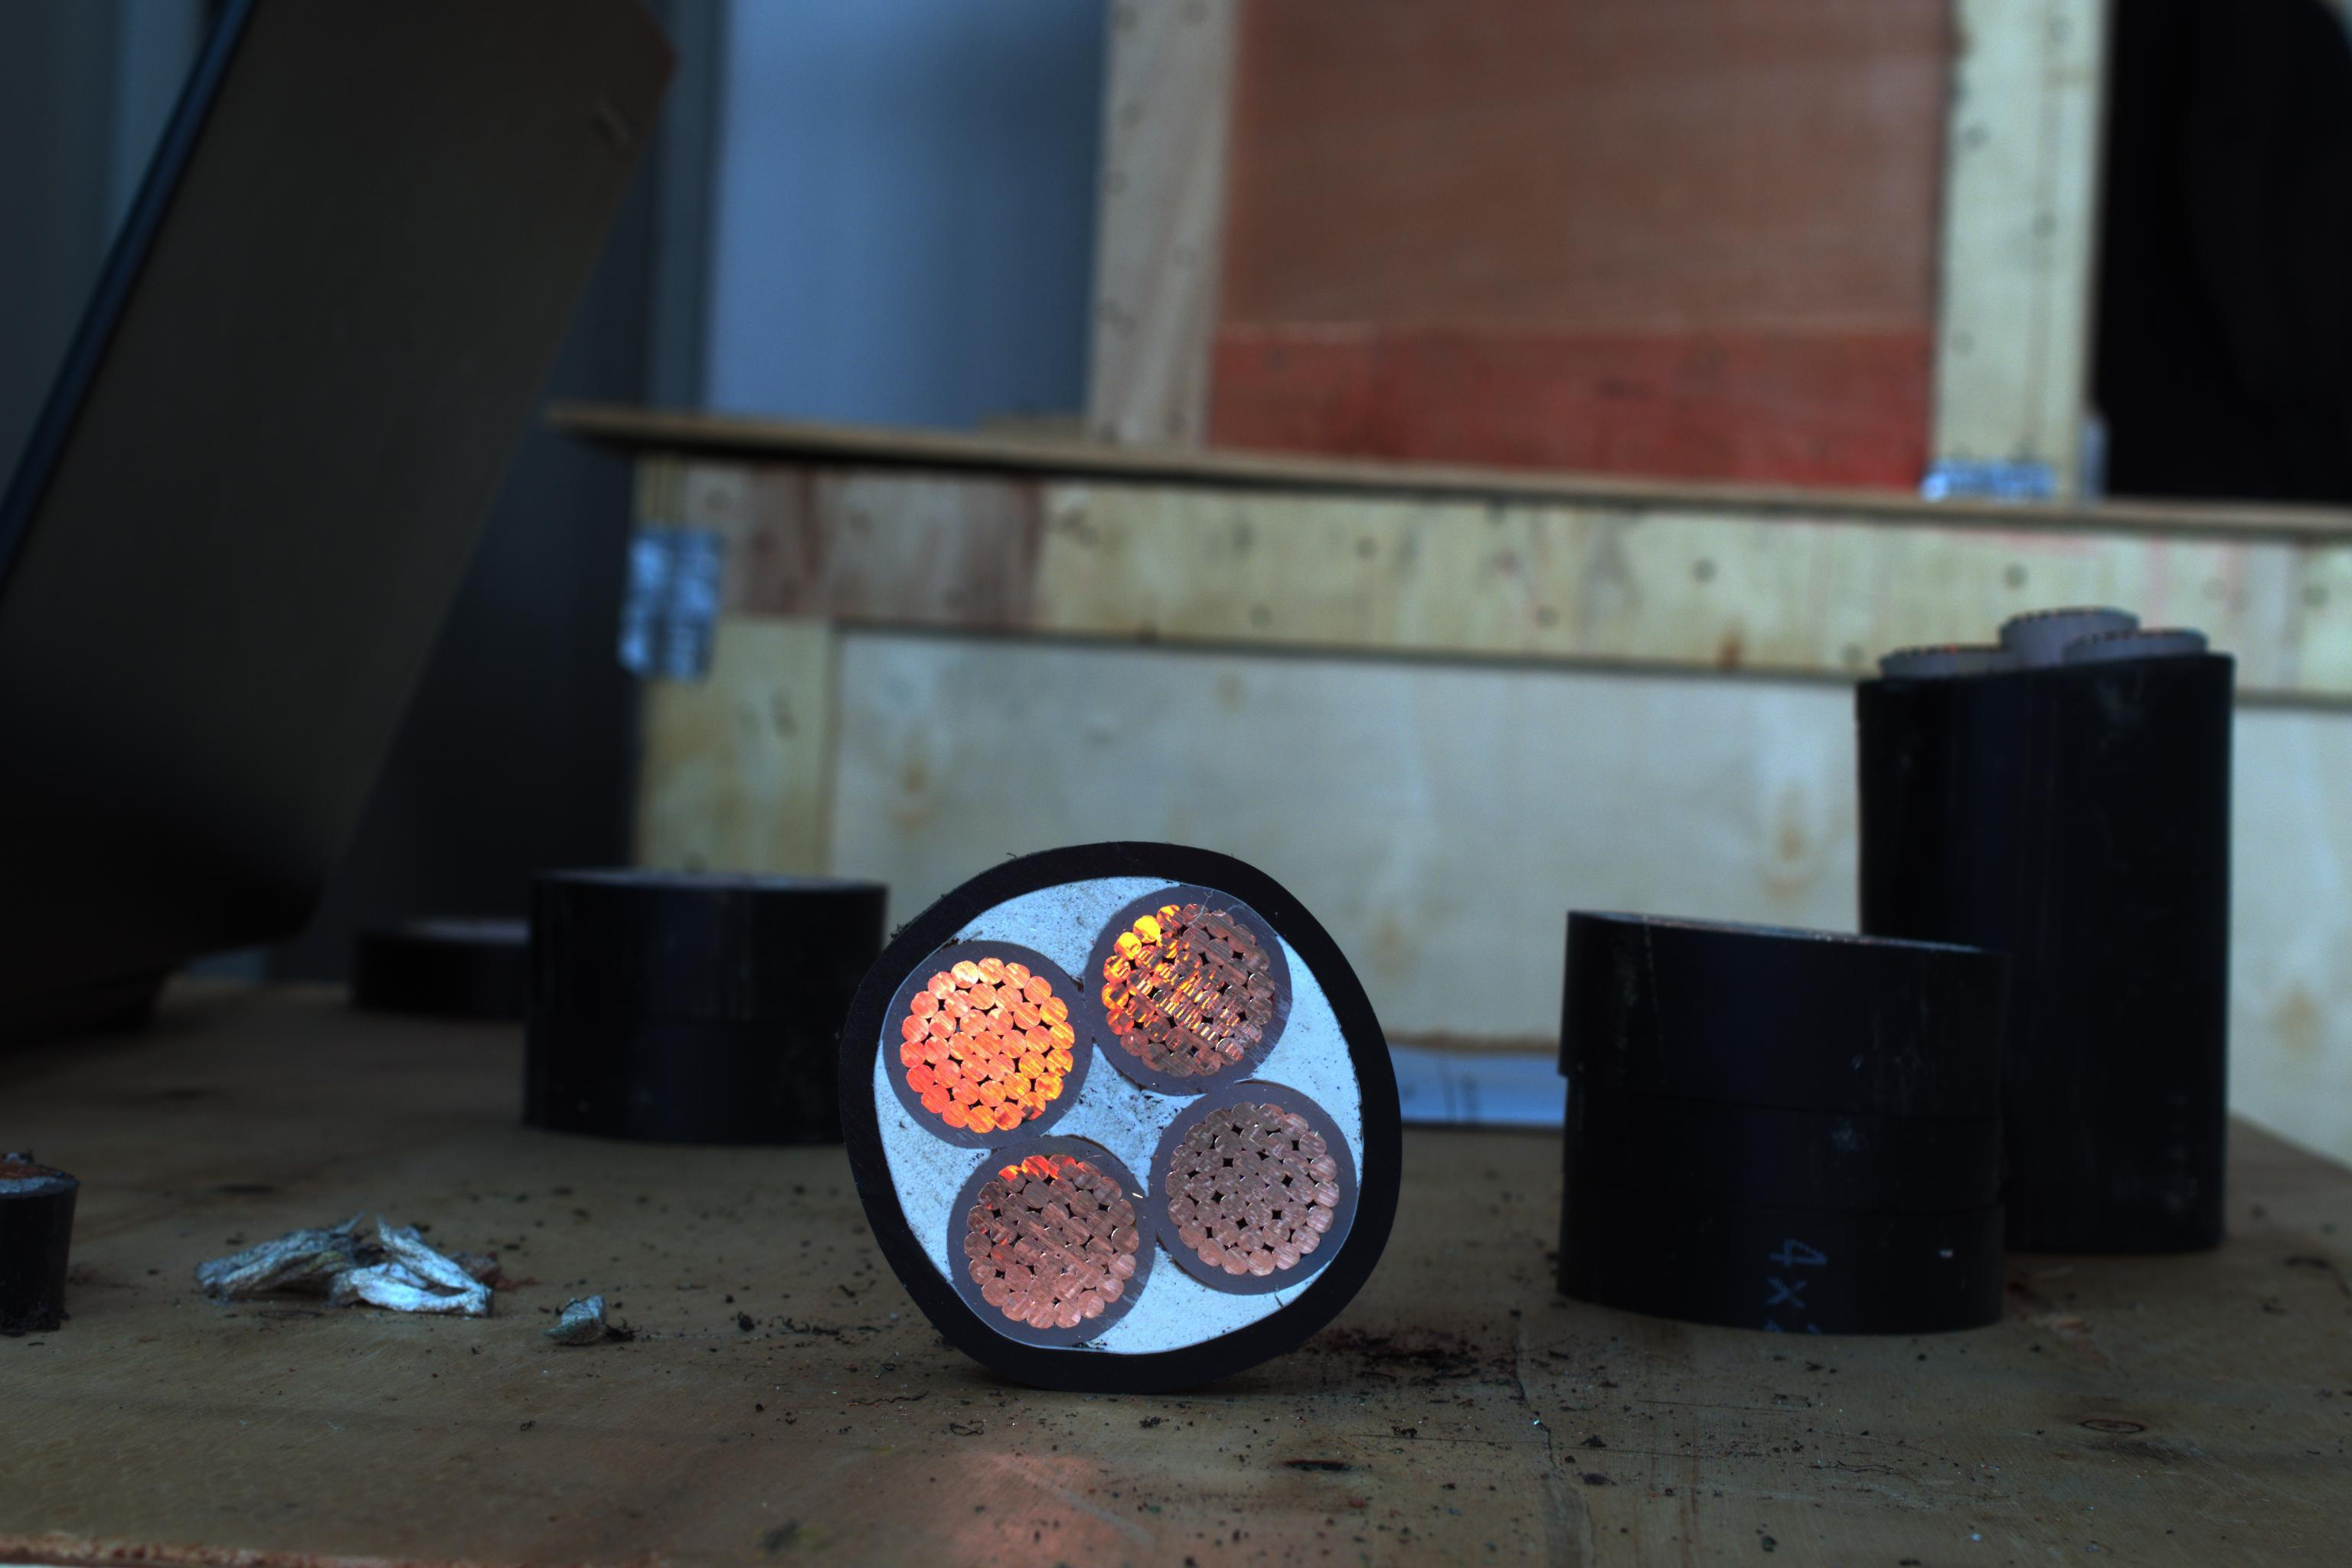YJV_0.6_1kV_4x240: (850, 852, 1396, 1368)
